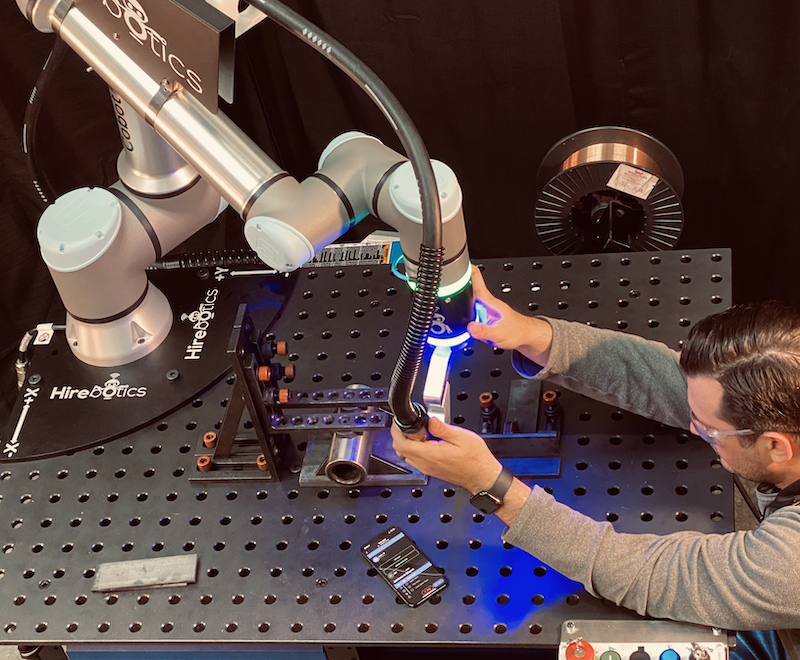person: (392, 262, 800, 631)
robot: (15, 1, 486, 440)
